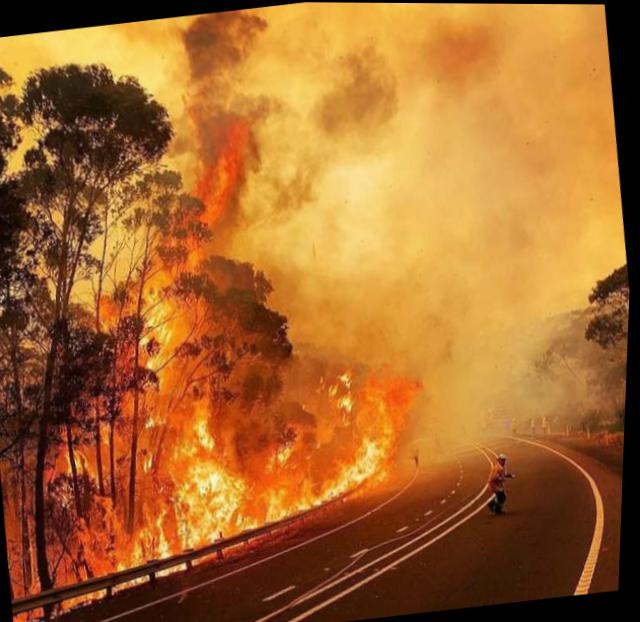fire: (54, 103, 431, 573)
